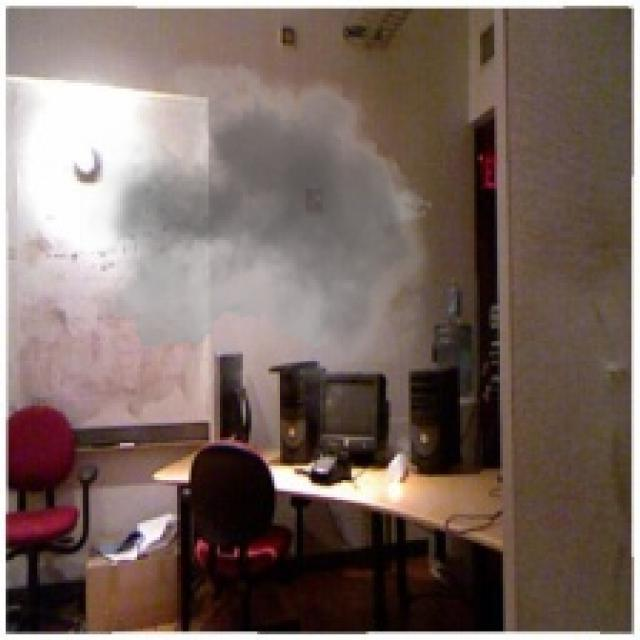Smoke: (80, 43, 446, 426)
